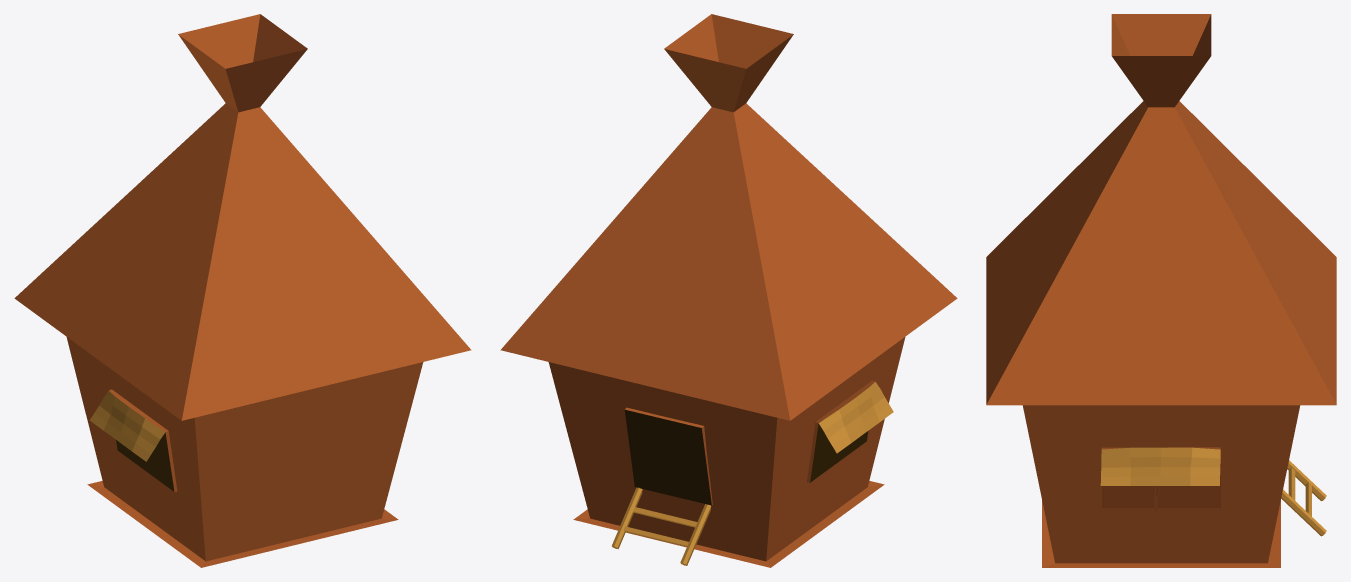
File: nipahut.fbx
3 views of the same model, side by side, from view 1: azimuth 30°, elevation 25°; view 2: azimuth 150°, elevation 25°; view 3: azimuth 270°, elevation 25° (orthographic). The views are drawn at different scales.
Parts seen in each view (by area): view 1: Plane; view 2: Plane; view 3: Plane.
Part boxes in pixels (x1=…): Plane: x1=14, y1=14, x2=471, y2=567; Plane: x1=500, y1=14, x2=957, y2=567; Plane: x1=986, y1=14, x2=1336, y2=567.
Bounding box in the file's own units: 1.43 × 2.18 × 1.43.
